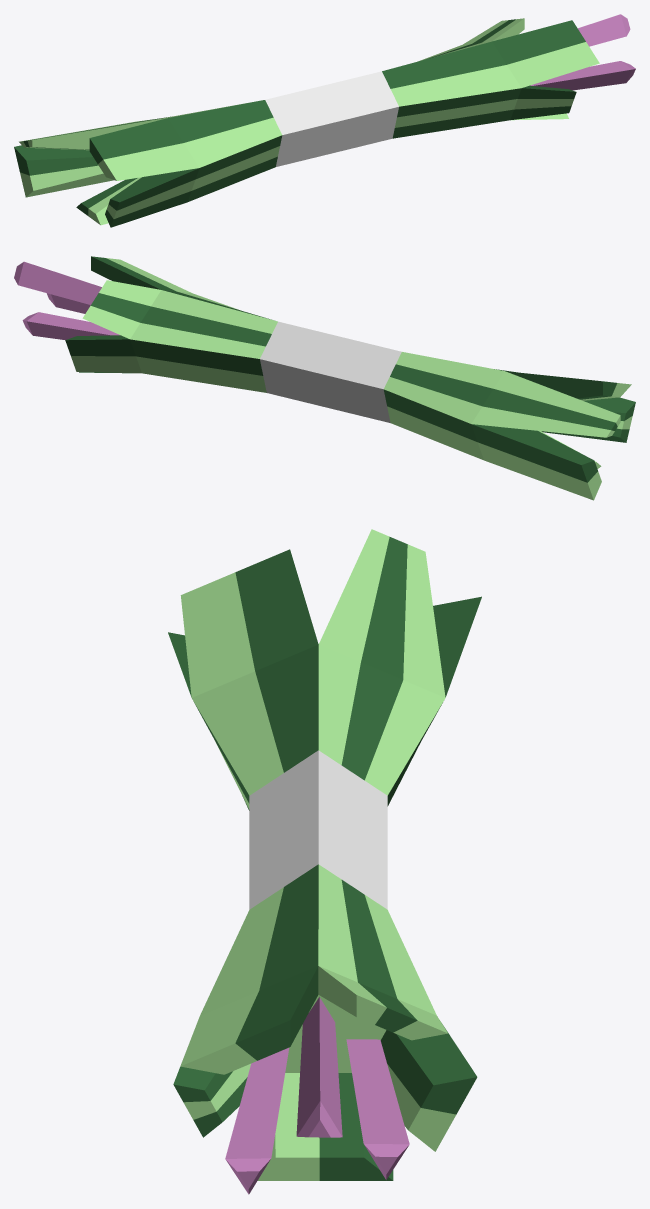
The model's file is Sage.fbx.
The picture shows the model from 3 angles, top to bottom: view 1: azimuth 30°, elevation 25°; view 2: azimuth 150°, elevation 25°; view 3: azimuth 270°, elevation 25°; orthographic projection. The views are drawn at different scales.
Visible parts, largest first — view 1: Sage; view 2: Sage; view 3: Sage.
Part boxes in pixels (box(x1,y1,x2,y2)): Sage: box(14, 14, 635, 227); Sage: box(14, 256, 635, 500); Sage: box(168, 529, 481, 1194).
Bounding box in the file's own units: 0.1873 × 0.8012 × 0.1148.
